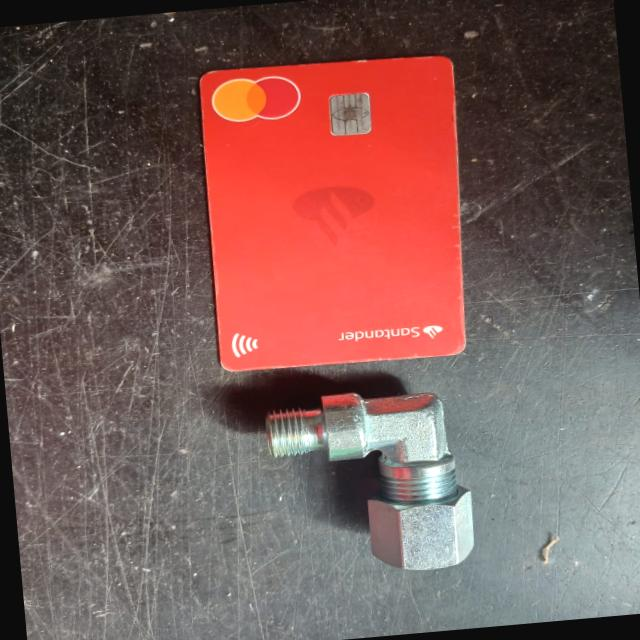cartao: (194, 50, 479, 375)
rosca_externa: (264, 384, 474, 582)
